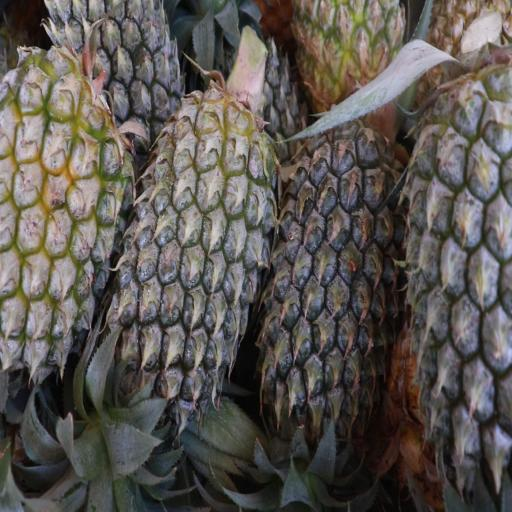------------------------------: (0, 62, 129, 359), (294, 0, 404, 113)
